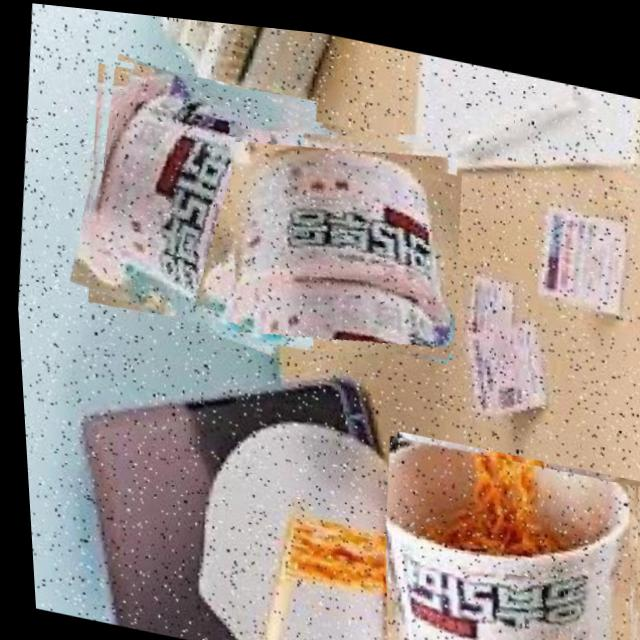Miscellaneous: (60, 48, 328, 350), (198, 92, 467, 371), (358, 424, 640, 640)
